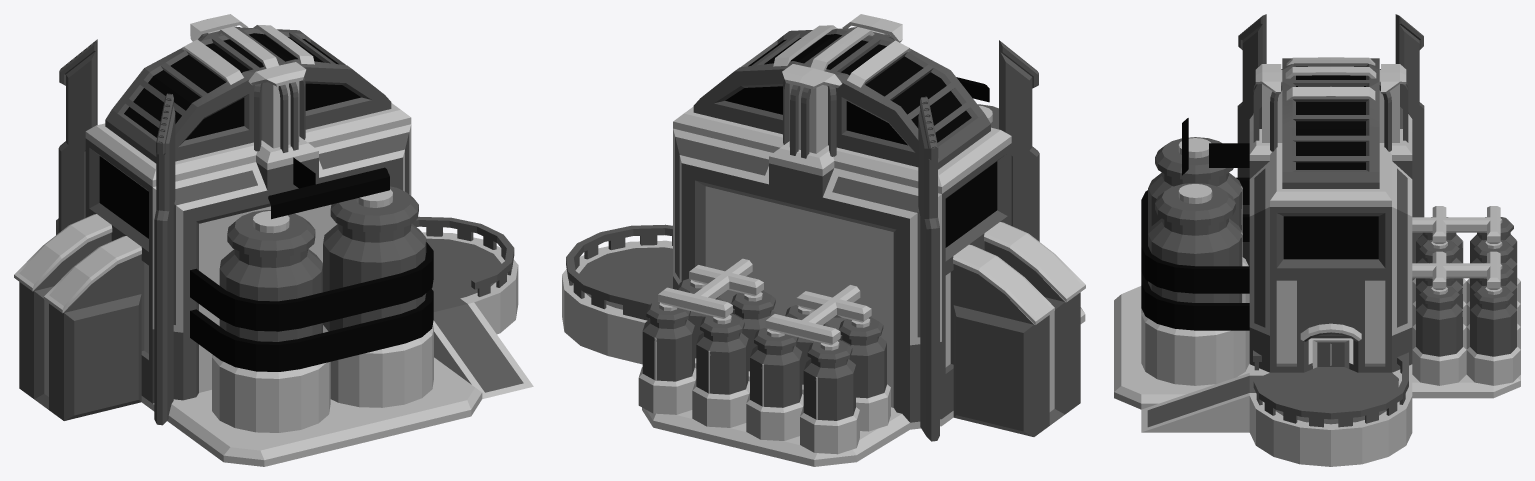
Rendered from drinkfactory.dae.
The picture shows the model from 3 angles, left to right: view 1: azimuth 30°, elevation 25°; view 2: azimuth 150°, elevation 25°; view 3: azimuth 270°, elevation 25°; orthographic projection. The views are drawn at different scales.
Visible parts, largest first — view 1: drinkfactory; view 2: drinkfactory; view 3: drinkfactory.
Part boxes in pixels (bbox=[...]): drinkfactory: bbox=[14, 14, 533, 466]; drinkfactory: bbox=[562, 14, 1085, 466]; drinkfactory: bbox=[1114, 14, 1520, 466].
Size of the model in its own units: 39.59 by 32.76 by 25.46.
